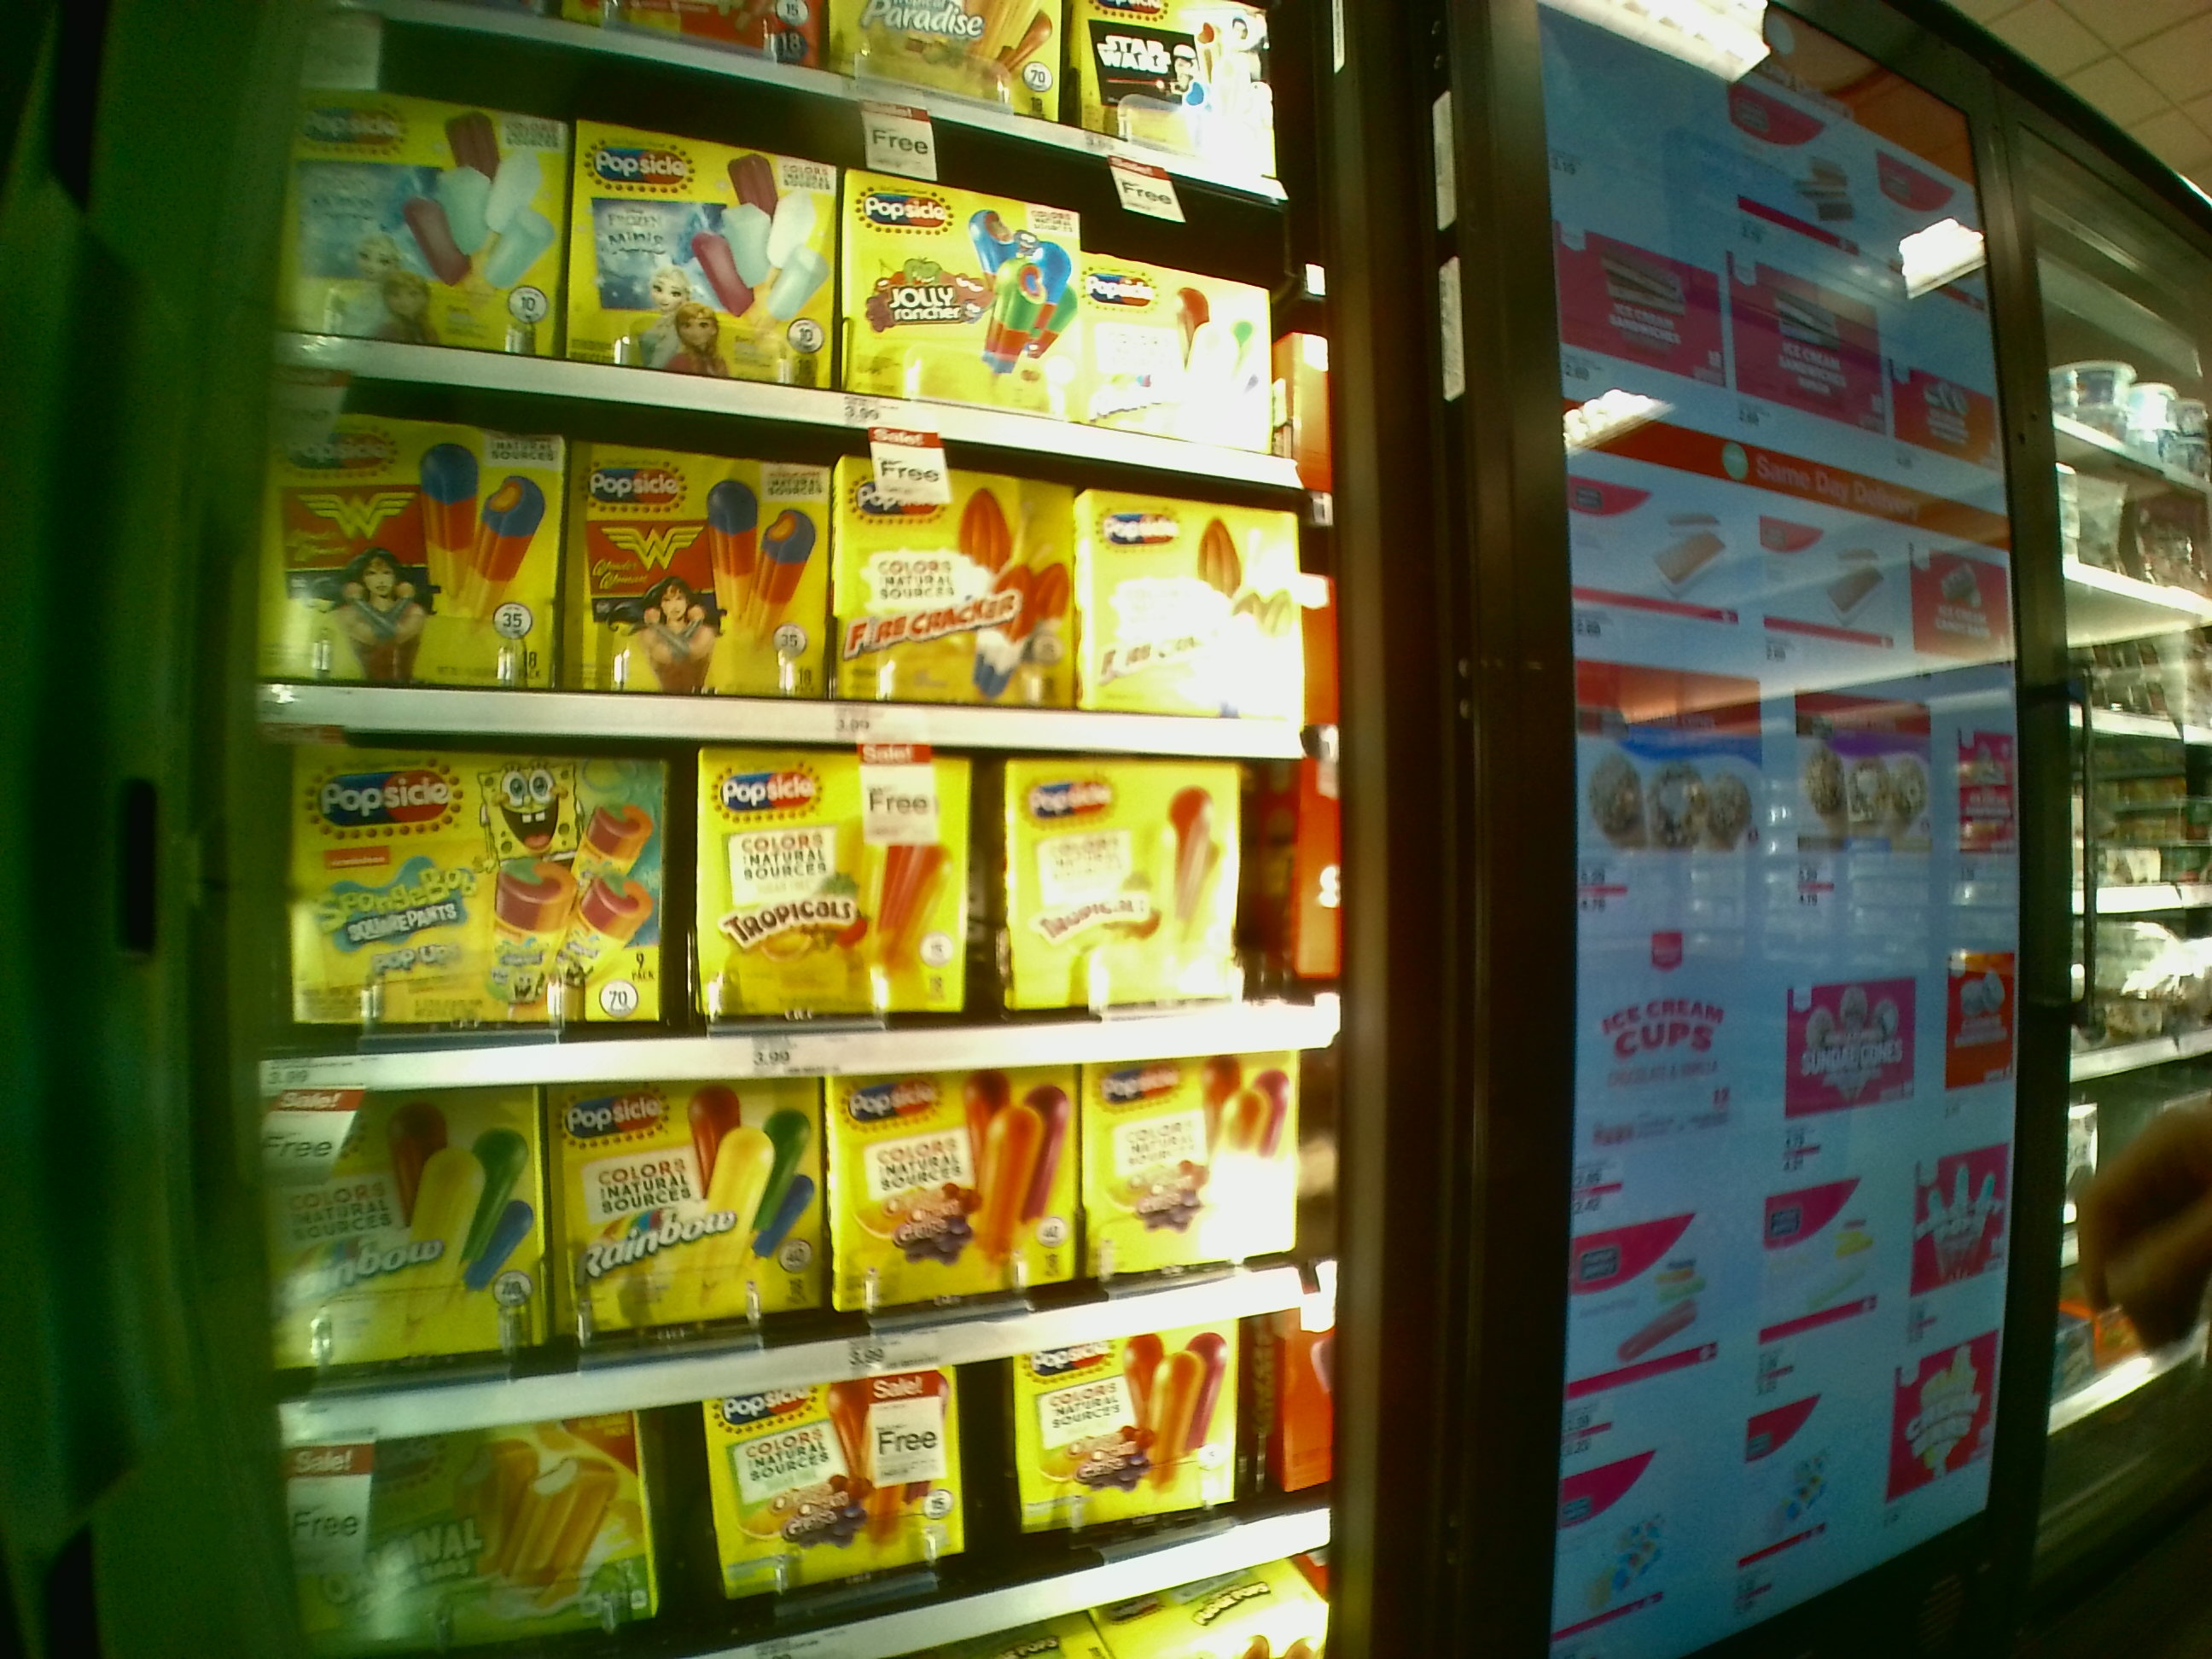shelf: (261, 397, 1320, 749), (289, 118, 1287, 437), (263, 746, 1324, 1044), (287, 1079, 1324, 1340)
